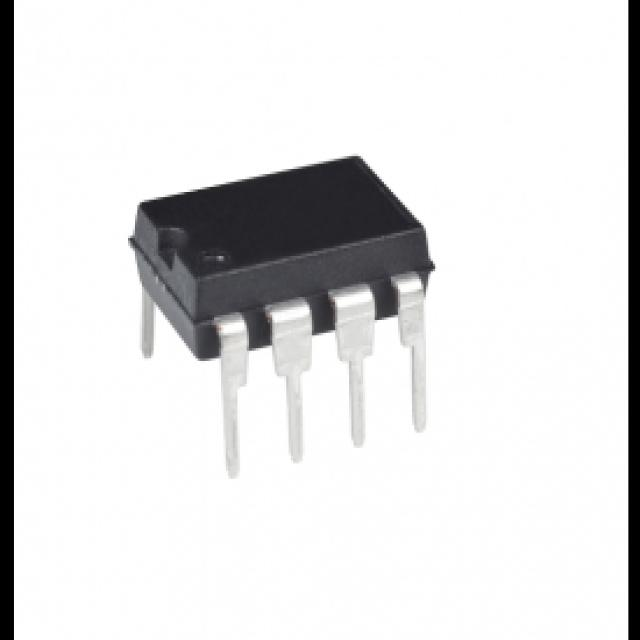IC: (125, 154, 437, 479)
